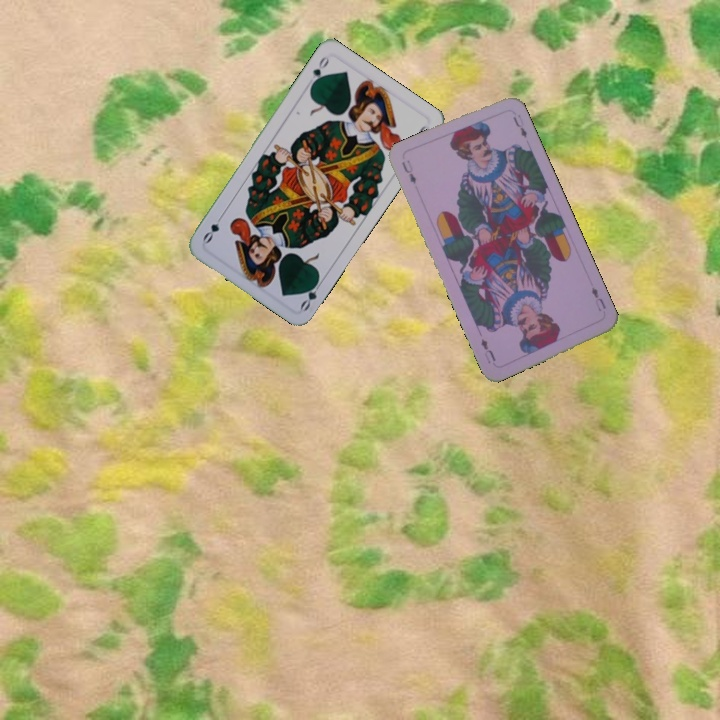EU: (587, 283, 608, 314), (398, 156, 419, 187)
GO: (296, 275, 325, 314), (307, 52, 332, 90)
